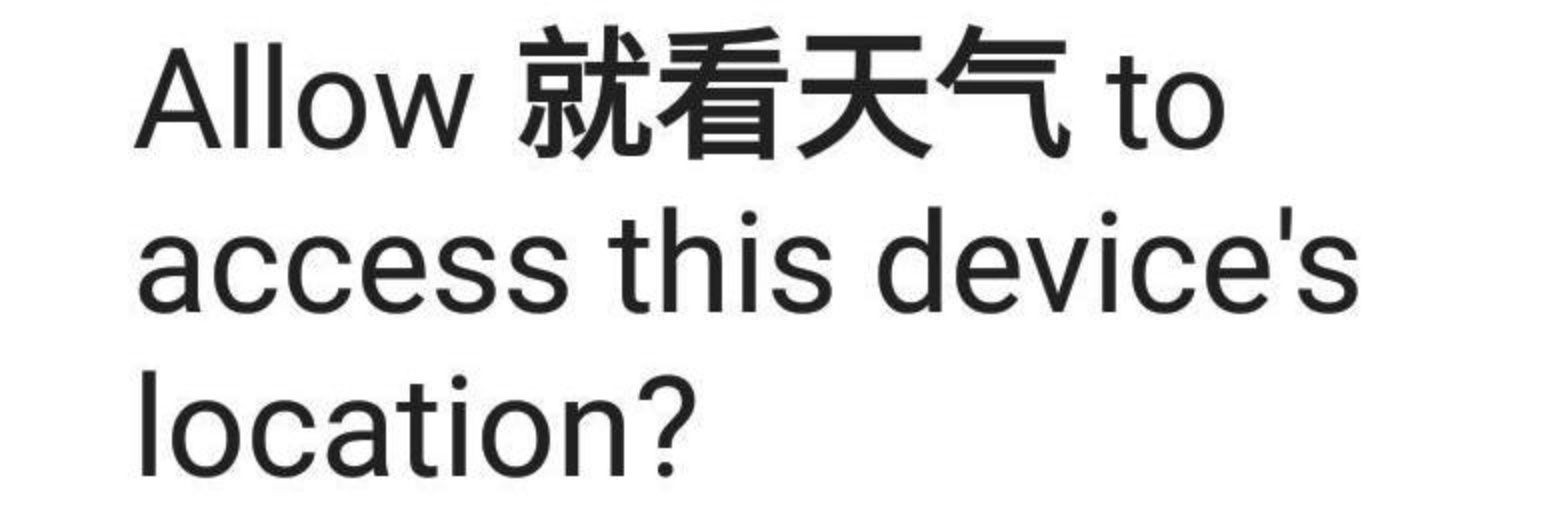TextView: (1, 1, 1551, 513)
